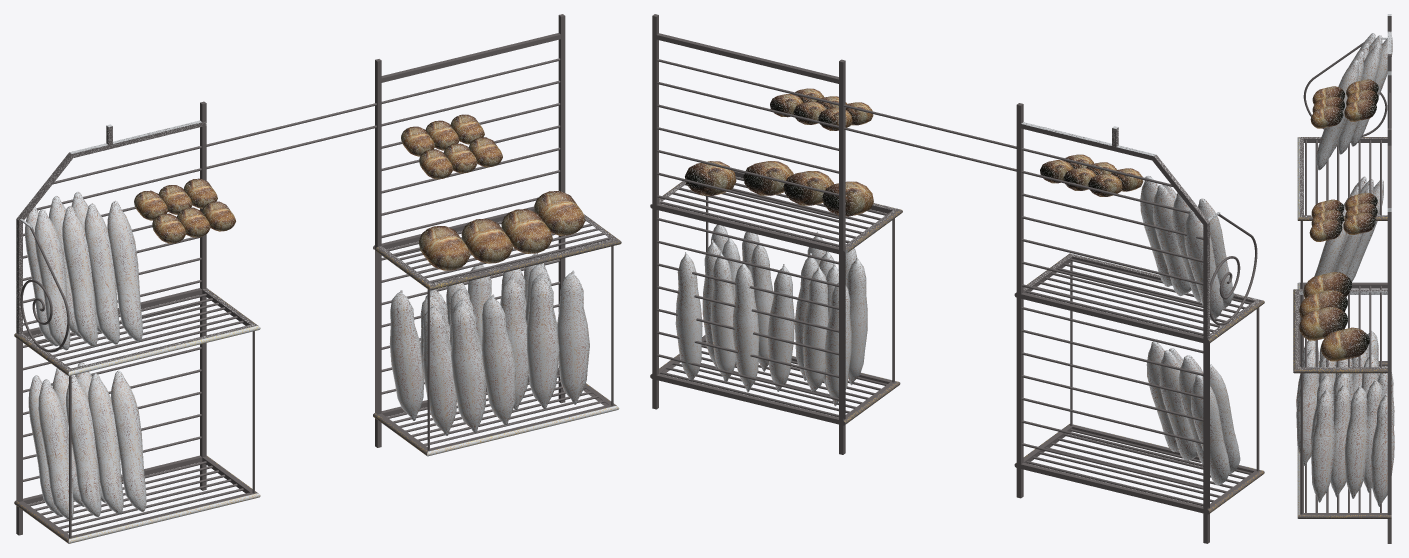
File: etagere.glb
3 renders of one model, left to right at view 1: azimuth 30°, elevation 25°; view 2: azimuth 150°, elevation 25°; view 3: azimuth 270°, elevation 25°, orthographic. The views are drawn at different scales.
Visible parts, largest first — view 1: instance_0.031, instance_0.010, instance_0.011, instance_70, instance_72, instance_67, instance_66, instance_59, instance_52, instance_48, instance_54, instance_45 (+31 smaller); view 2: instance_0.010, instance_0.031, instance_73, instance_74, instance_61, instance_60, instance_71, instance_0.011, instance_64, instance_46, instance_47, instance_56 (+18 smaller); view 3: instance_0.031, instance_68, instance_72, instance_73, instance_66, instance_75, group_15, group_14, instance_52, instance_71, instance_0.105, instance_56 (+47 smaller).
Boxes of the visible parts, left/top/right/bottom form: instance_0.031: left=373, top=14, right=615, bottom=451; instance_0.010: left=16, top=101, right=256, bottom=538; instance_0.011: left=16, top=120, right=256, bottom=371; instance_70: left=526, top=275, right=559, bottom=409; instance_72: left=557, top=270, right=589, bottom=404; instance_67: left=451, top=302, right=485, bottom=433; instance_66: left=481, top=294, right=515, bottom=425; instance_59: left=389, top=290, right=423, bottom=420; instance_52: left=107, top=200, right=142, bottom=341; instance_48: left=111, top=370, right=146, bottom=511; instance_54: left=62, top=206, right=97, bottom=346; instance_45: left=38, top=379, right=73, bottom=519; instance_0.010: left=1014, top=103, right=1260, bottom=543; instance_0.031: left=650, top=14, right=896, bottom=454; instance_73: left=675, top=252, right=702, bottom=381; instance_74: left=732, top=261, right=759, bottom=392; instance_61: left=767, top=264, right=794, bottom=391; instance_60: left=802, top=266, right=828, bottom=392; instance_71: left=710, top=252, right=735, bottom=381; instance_0.011: left=1021, top=122, right=1260, bottom=339; instance_64: left=847, top=257, right=867, bottom=385; instance_46: left=1191, top=375, right=1230, bottom=485; instance_47: left=1159, top=350, right=1196, bottom=460; instance_56: left=1153, top=185, right=1190, bottom=296; instance_0.031: left=1299, top=128, right=1391, bottom=543; instance_68: left=1344, top=385, right=1368, bottom=498; instance_72: left=1311, top=389, right=1334, bottom=502; instance_73: left=1371, top=393, right=1394, bottom=506; instance_66: left=1296, top=348, right=1319, bottom=465; instance_75: left=1330, top=384, right=1351, bottom=497; group_15: left=1320, top=327, right=1369, bottom=361; group_14: left=1299, top=306, right=1347, bottom=340; instance_52: left=1316, top=59, right=1358, bottom=170; instance_71: left=1363, top=379, right=1382, bottom=492; instance_0.105: left=1295, top=289, right=1387, bottom=369; instance_56: left=1337, top=44, right=1380, bottom=154.
Bounding box in the file's own units: 2.58 × 1.73 × 0.4739.
7 materials, 4 textured.
